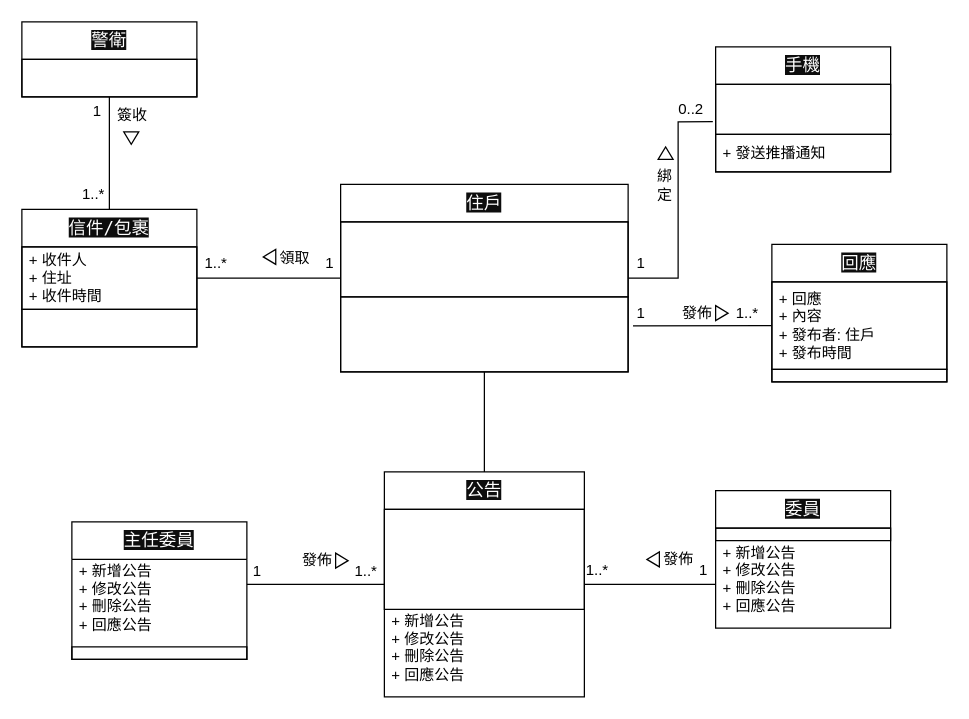
Image size: 969x719. Some labels were removed from this diagram. The shapes that lost their labels are listed below. From the top down, each one's centre as x and y in pixels, then its label:
the point at 109,77: + 收取包裹
the point at 802,108: + 手機號碼 + 綁定狀態
the point at 483,259: + 姓名 + 住址 - 綁定手機數
the point at 109,327: + 簽收 + 發送推播通知
the point at 483,334: + 查看包裹詳情 + 查看公告 + 回應公告
the point at 483,558: + 公告ID + 標題 + 內容 + 發佈者:主任委員或委員 + 回應列表
